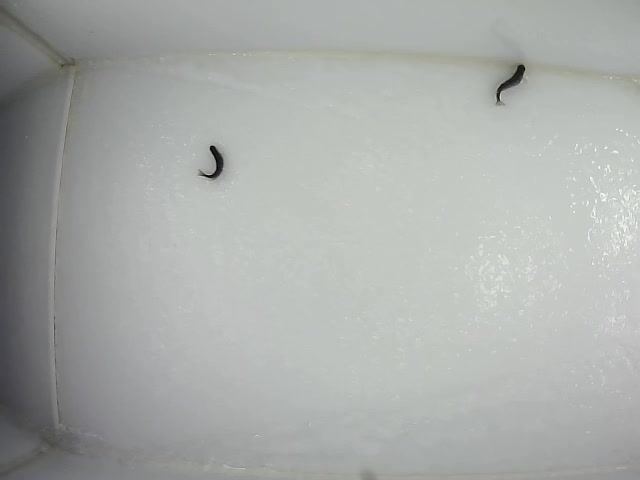fish: (492, 63, 528, 107), (195, 143, 226, 180)
